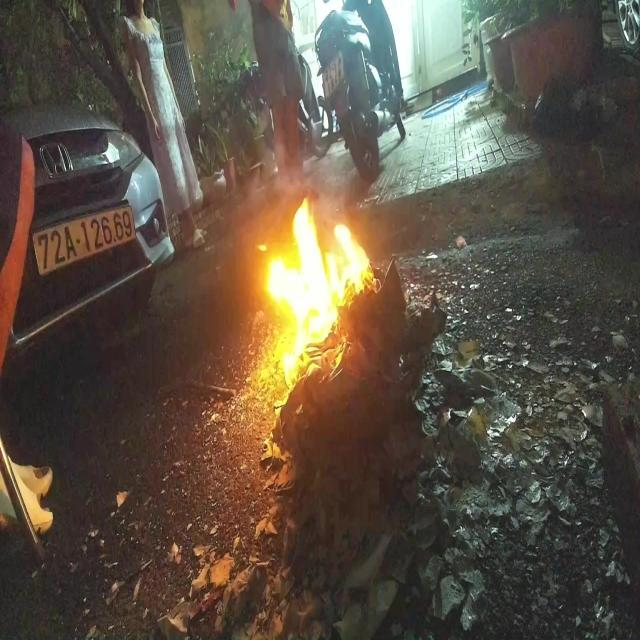Fire: (244, 168, 374, 388)
